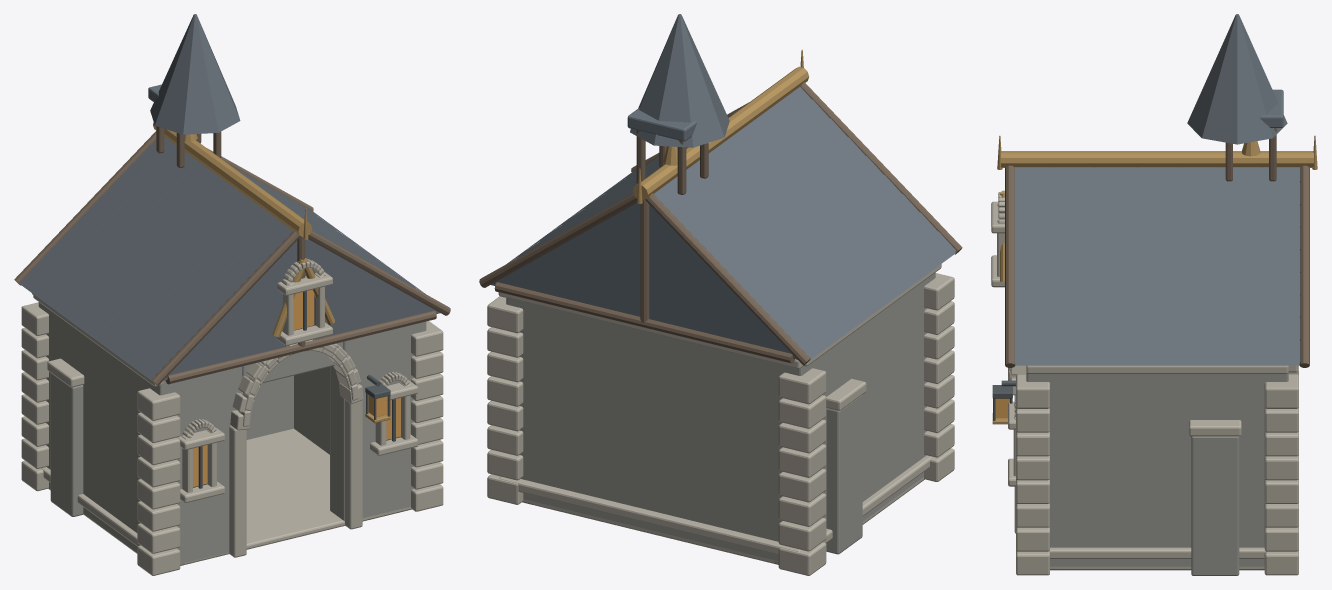
The model's file is service_1.glb.
3 views of the same model, side by side, from view 1: azimuth 30°, elevation 25°; view 2: azimuth 150°, elevation 25°; view 3: azimuth 270°, elevation 25° (orthographic). The views are drawn at different scales.
Visible parts, largest first — view 1: Roof.001, Front.001, Body.001, Side.001; view 2: Body.001, Roof.001, Side.001, Front.001; view 3: Roof.001, Side.001, Front.001, Body.001.
Boxes of the visible parts, x1=… form: Roof.001: x1=14, y1=14, x2=450, y2=385; Front.001: x1=137, y1=321, x2=443, y2=575; Body.001: x1=21, y1=293, x2=411, y2=565; Side.001: x1=294, y1=323, x2=424, y2=509; Body.001: x1=498, y1=264, x2=941, y2=575; Roof.001: x1=479, y1=14, x2=962, y2=365; Side.001: x1=487, y1=296, x2=532, y2=504; Front.001: x1=920, y1=273, x2=954, y2=482; Roof.001: x1=991, y1=14, x2=1317, y2=367; Side.001: x1=1026, y1=365, x2=1298, y2=575; Front.001: x1=992, y1=365, x2=1055, y2=575; Body.001: x1=1050, y1=365, x2=1298, y2=570.
Bounding box in the file's own units: 3.23 × 4.7 × 2.86.
